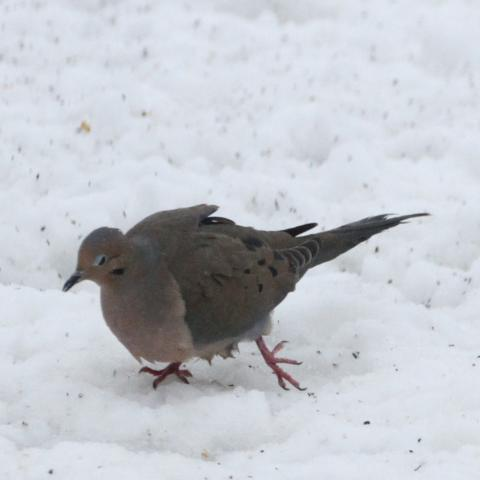bird: (60, 200, 432, 394)
